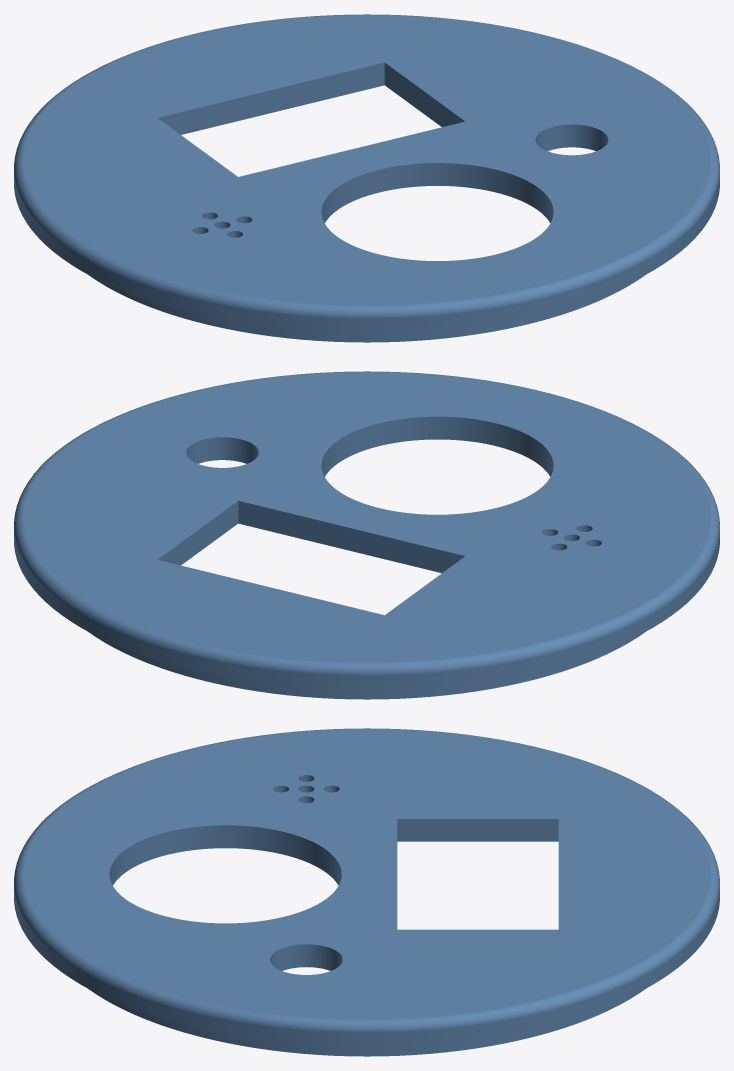
The model's file is esp2025_p31_pod_cap.glb.
3 renders of one model, top to bottom at view 1: azimuth 30°, elevation 25°; view 2: azimuth 150°, elevation 25°; view 3: azimuth 270°, elevation 25°, orthographic.
Parts seen in each view (by area): view 1: pod cap; view 2: pod cap; view 3: pod cap.
Part boxes in pixels (x1,y1,x2,y2): pod cap: (14, 14, 719, 342); pod cap: (14, 371, 719, 699); pod cap: (14, 728, 719, 1056).
Bounding box in the file's own units: 70 × 5 × 69.98.
